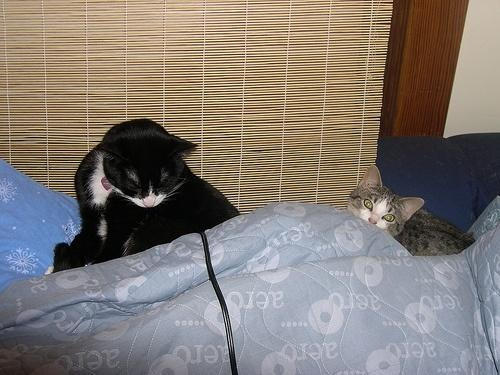cat: (52, 114, 242, 277), (348, 167, 479, 260)
